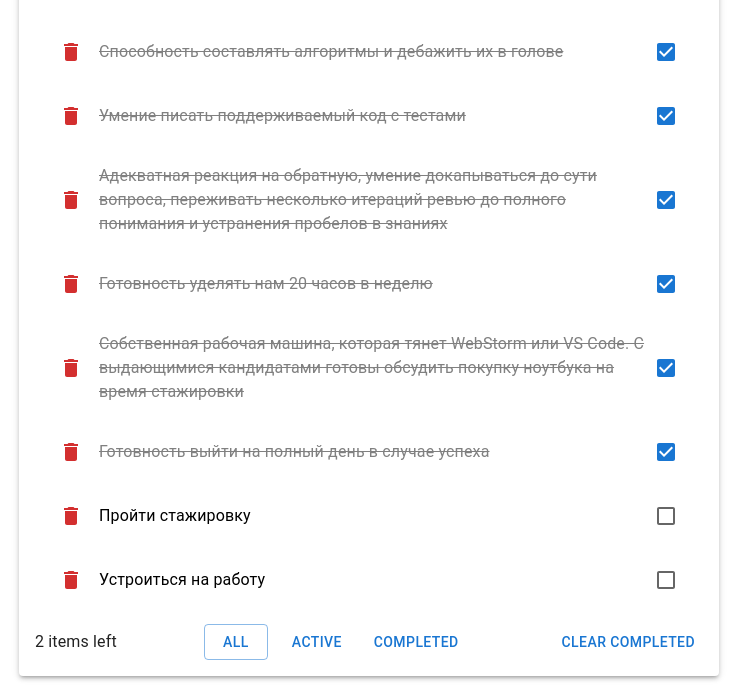
Test: App (ключевая функциональность) › фильтрует задачи: активные/выполненные/все
(page scrolled)
Click the button "Active" at (317, 642), box [284,624,350,660]
(page scrolled)
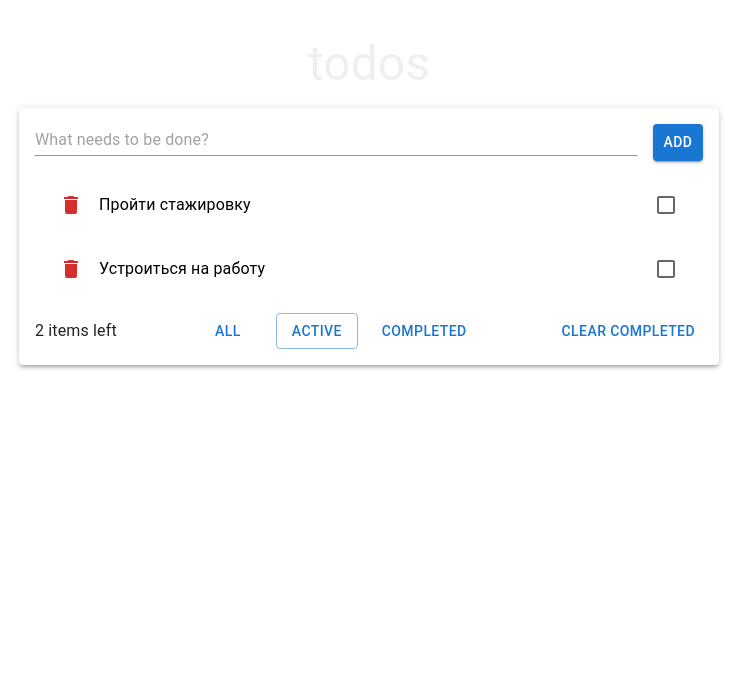
Expected: the text "Пройти стажировку" is shown, [99,194,251,214]
Click the button "Completed" at (424, 331), box [374,312,475,349]
(page scrolled)
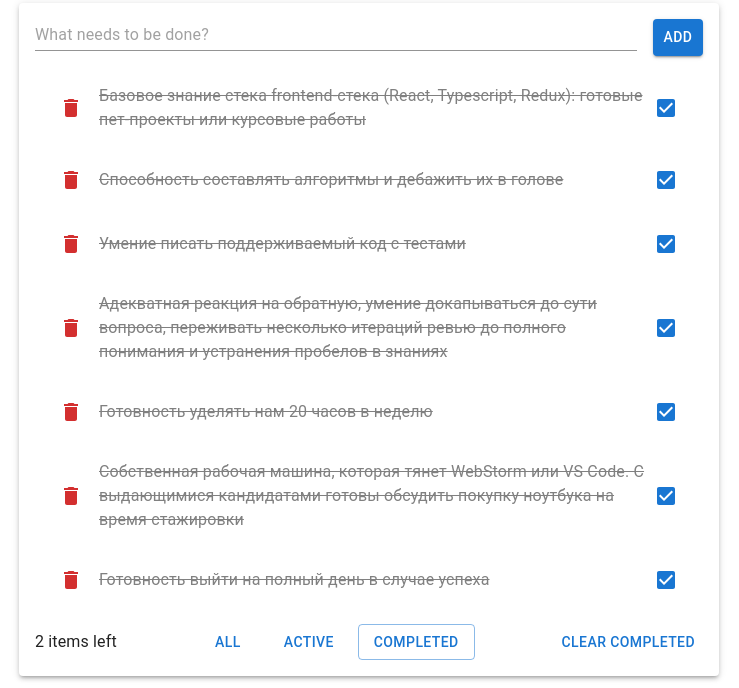
Now the text "Пройти стажировку" is gone
Now the text "Базовое знание стека frontend-стека (React, Typescript, Redux): готовые пет-проекты или курсовые работы" is shown, box [99,86,642,128]
Click the button "All" at (228, 642), box [196,624,260,660]
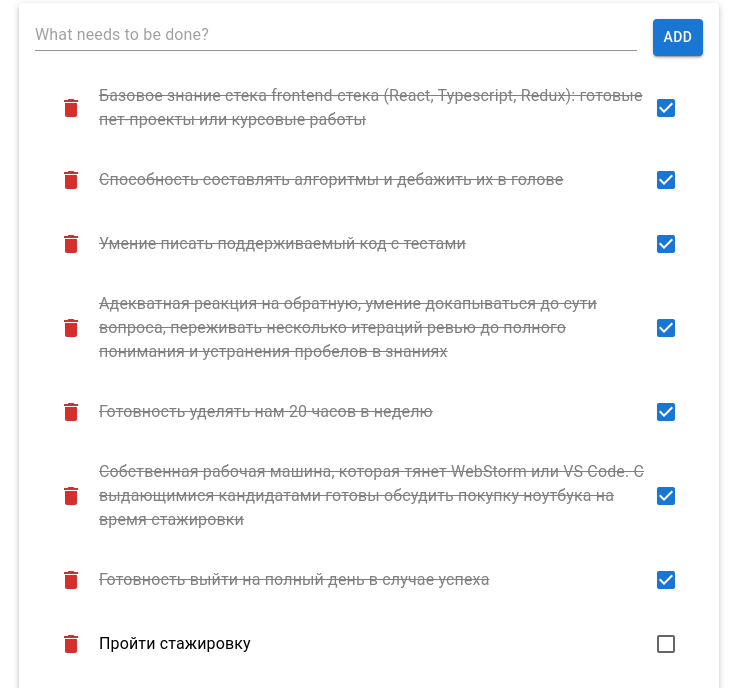
Now the text "Базовое знание стека frontend-стека (React, Typescript, Redux): готовые пет-проекты или курсовые работы" is shown, box [99,86,642,128]
Now the text "Пройти стажировку" is shown, box [99,634,251,652]
